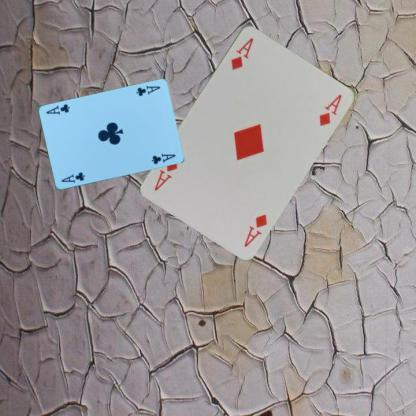Ac: (133, 82, 162, 98), (58, 170, 86, 184)
Ad: (241, 211, 269, 248), (228, 34, 255, 71)
